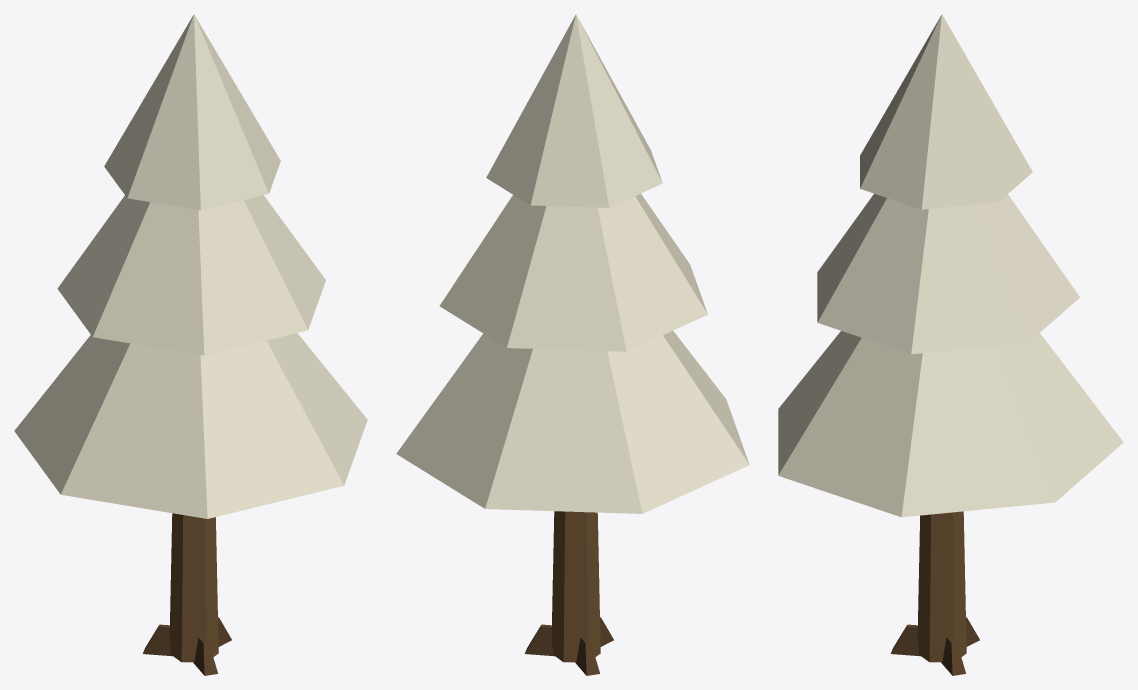
The model's file is env_tree_b.glb.
3 views of the same model, side by side, from view 1: azimuth 30°, elevation 25°; view 2: azimuth 150°, elevation 25°; view 3: azimuth 270°, elevation 25° (orthographic).
Parts seen in each view (by area): view 1: tint_canopy, trunk; view 2: tint_canopy, trunk; view 3: tint_canopy, trunk.
Part boxes in pixels (x1,y1,x2,y2): tint_canopy: (14,14,367,518); trunk: (143,513,231,675); tint_canopy: (396,14,749,513); trunk: (525,511,613,675); tint_canopy: (778,14,1123,517); trunk: (890,511,979,675).
Bounding box in the file's own units: 4.87 × 9.72 × 4.75.
Materials: 1 (1 with a texture image).
